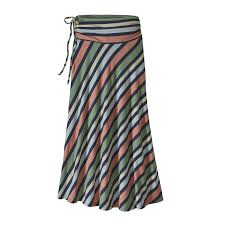C_skirt: (51, 10, 168, 213)
